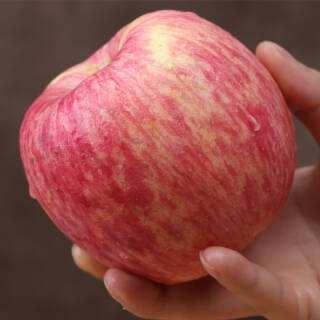apple: (17, 8, 306, 289)
